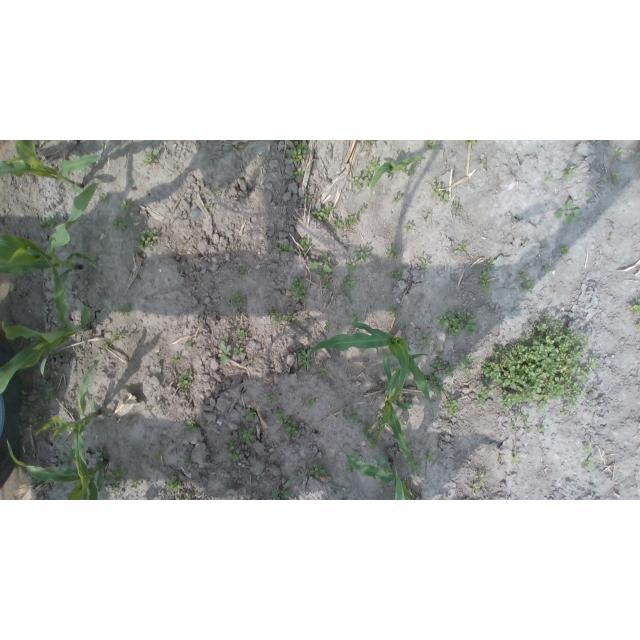Maize: (1, 246, 92, 394), (308, 321, 435, 422), (1, 180, 100, 290), (38, 360, 101, 500), (380, 346, 436, 480), (5, 440, 108, 501), (0, 140, 104, 194), (336, 436, 413, 500), (370, 156, 436, 197)
Weeds: (476, 314, 605, 415), (437, 311, 478, 340), (554, 200, 582, 225), (275, 409, 300, 436), (308, 252, 332, 278), (423, 371, 449, 395), (287, 276, 309, 303), (104, 466, 126, 490), (456, 354, 475, 379), (136, 228, 157, 250), (296, 345, 313, 372), (287, 140, 307, 162), (362, 420, 376, 450), (432, 357, 453, 377), (311, 203, 334, 221), (363, 157, 381, 179), (432, 183, 449, 206), (350, 171, 371, 189), (271, 481, 293, 498), (519, 269, 535, 292), (177, 369, 193, 392), (227, 435, 241, 461), (235, 425, 255, 443), (58, 448, 74, 470), (445, 398, 460, 419), (218, 343, 231, 366), (354, 244, 370, 262), (113, 215, 131, 231), (298, 235, 313, 254), (39, 215, 59, 229), (478, 272, 491, 293), (142, 149, 158, 166), (309, 463, 326, 479), (165, 476, 181, 493), (627, 297, 640, 317), (231, 291, 244, 309), (341, 276, 356, 291), (386, 244, 400, 260), (117, 304, 133, 318), (407, 458, 421, 474), (581, 456, 595, 471), (342, 411, 361, 422), (303, 394, 317, 408), (483, 259, 498, 272), (119, 200, 134, 213), (32, 413, 45, 428), (400, 394, 415, 407), (420, 333, 433, 348), (563, 166, 578, 179), (521, 413, 531, 432), (345, 215, 359, 228), (391, 265, 403, 280), (283, 311, 298, 322), (270, 309, 281, 324), (423, 140, 439, 150), (403, 164, 416, 176), (344, 464, 356, 477), (245, 409, 258, 421), (184, 420, 197, 432), (45, 388, 57, 401), (419, 255, 429, 270), (375, 424, 385, 439), (236, 328, 248, 340), (474, 472, 486, 484), (294, 168, 305, 181), (452, 198, 463, 211), (265, 393, 278, 404), (130, 477, 143, 488), (511, 452, 522, 465), (98, 193, 110, 204), (233, 343, 244, 355), (277, 243, 293, 251), (333, 217, 344, 228), (349, 312, 360, 323), (508, 421, 519, 432), (582, 445, 594, 455), (237, 264, 246, 277), (612, 172, 621, 185), (318, 367, 329, 377), (425, 453, 435, 464), (543, 173, 555, 182), (176, 493, 191, 500), (170, 354, 180, 364), (541, 239, 550, 250), (402, 478, 411, 489), (363, 141, 376, 148), (54, 325, 67, 332), (392, 194, 402, 203), (347, 262, 357, 271), (154, 449, 163, 459), (25, 402, 35, 411), (538, 423, 547, 433), (614, 147, 622, 158), (391, 307, 399, 318), (544, 265, 553, 274), (113, 332, 122, 341), (97, 452, 107, 460), (21, 389, 29, 399), (477, 155, 487, 163), (473, 483, 480, 494), (405, 222, 414, 230), (185, 456, 194, 464), (106, 338, 114, 347), (374, 414, 382, 423), (561, 246, 570, 254), (63, 338, 73, 345), (304, 194, 312, 202), (324, 322, 332, 330), (460, 242, 467, 251), (324, 280, 331, 289), (464, 140, 476, 145), (435, 345, 442, 353), (634, 322, 640, 331), (358, 206, 365, 213), (383, 466, 390, 473), (586, 191, 593, 198), (212, 186, 220, 192), (185, 341, 193, 347), (222, 335, 228, 342), (247, 358, 254, 364), (204, 204, 212, 209), (126, 333, 134, 338), (181, 239, 187, 245), (607, 234, 613, 240), (147, 406, 154, 411), (88, 333, 95, 338), (104, 344, 109, 350), (454, 250, 459, 255), (525, 239, 530, 244)
